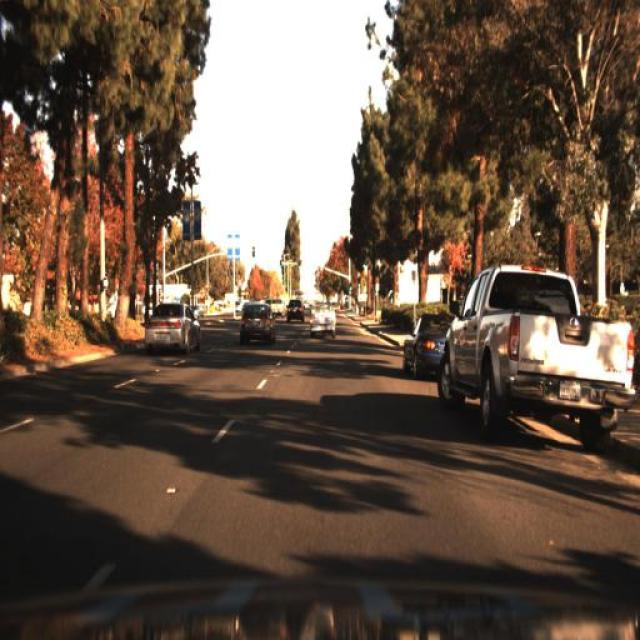car: (436, 264, 635, 456), (137, 300, 205, 360), (400, 304, 452, 376), (236, 298, 278, 350), (306, 299, 335, 336), (282, 295, 306, 327), (266, 292, 288, 323)
